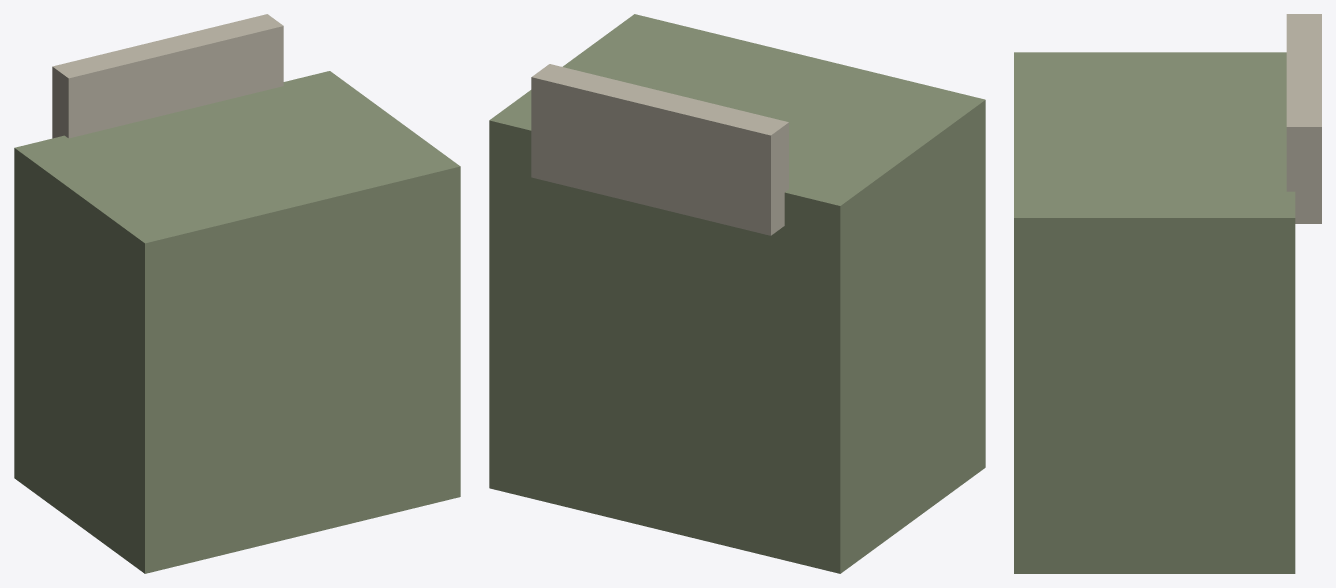
The model's file is iz2_item_hygiene_kit.glb.
3 renders of one model, left to right at view 1: azimuth 30°, elevation 25°; view 2: azimuth 150°, elevation 25°; view 3: azimuth 270°, elevation 25°, orthographic. The views are drawn at different scales.
Visible parts, largest first — view 1: body; view 2: body; view 3: body.
Part boxes in pixels (bbox=[...]): body: bbox=[14, 14, 460, 573]; body: bbox=[489, 14, 985, 573]; body: bbox=[1014, 14, 1321, 573].
Size of the model in its own units: 0.2203 by 0.2607 by 0.1728.
